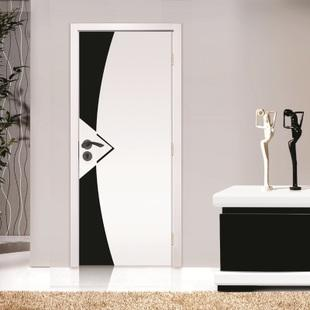door: (78, 27, 175, 268)
